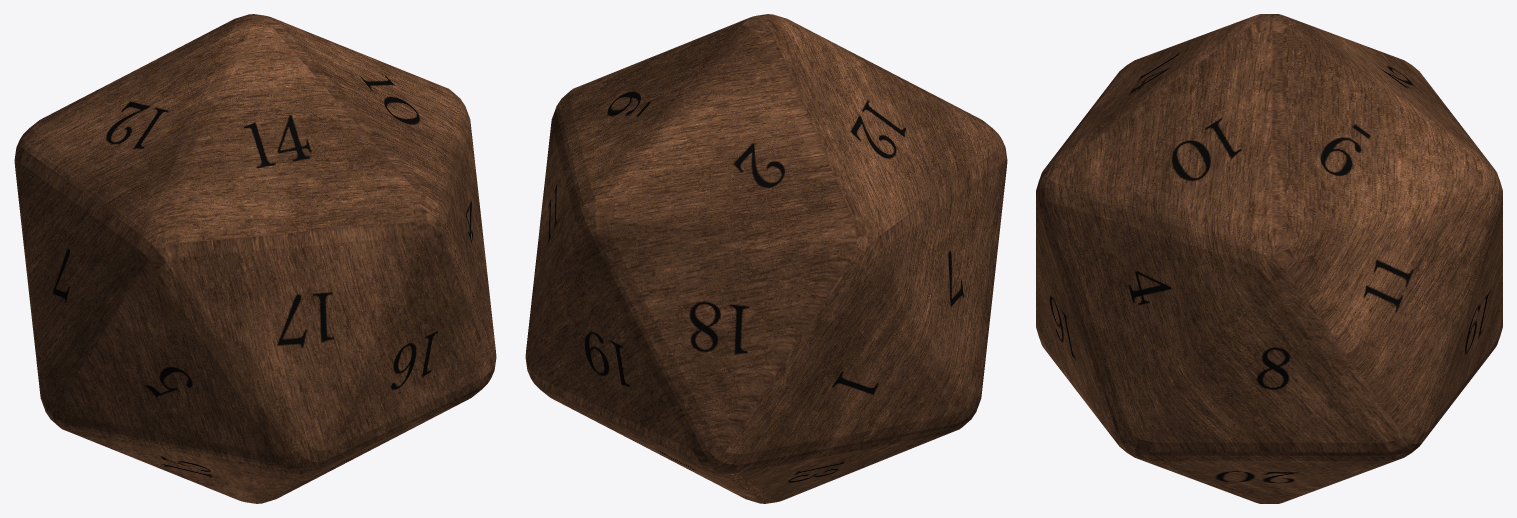
File: d20 smooth bevel.fbx
The picture shows the model from 3 angles, left to right: view 1: azimuth 30°, elevation 25°; view 2: azimuth 150°, elevation 25°; view 3: azimuth 270°, elevation 25°; orthographic projection.
Visible parts, largest first — view 1: Icosphere; view 2: Icosphere; view 3: Icosphere.
Part boxes in pixels (<box>): Icosphere: <box>14,14,496,503</box>; Icosphere: <box>525,14,1007,503</box>; Icosphere: <box>1036,14,1502,503</box>.
Bounding box in the file's own units: 174 × 191 × 167.
Materials: 1 (1 with a texture image).
